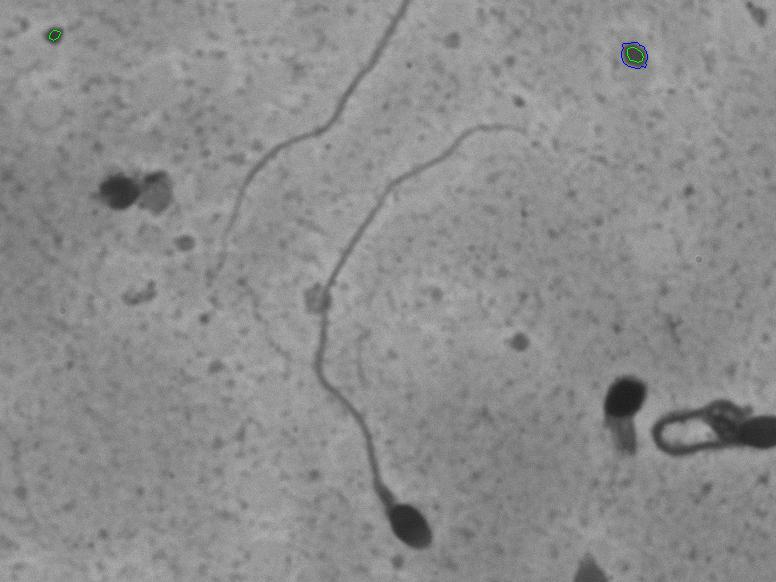Abnormal: (578, 339, 659, 472)
Normal: (303, 103, 535, 563)
